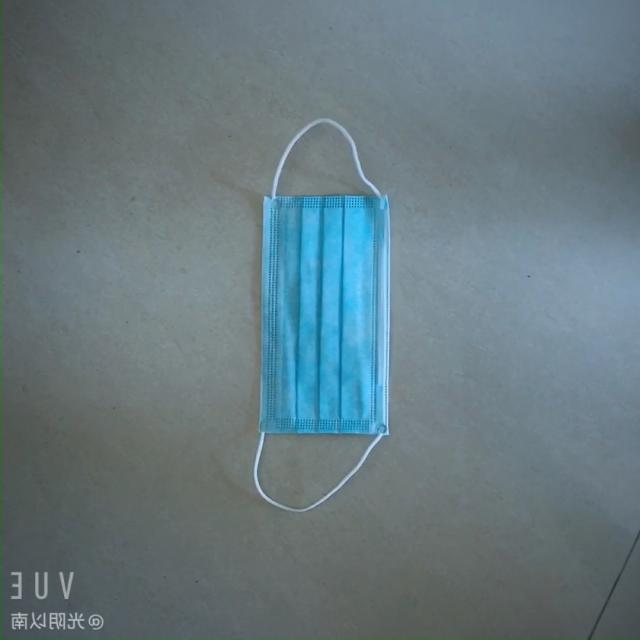face mask: (242, 186, 404, 471)
